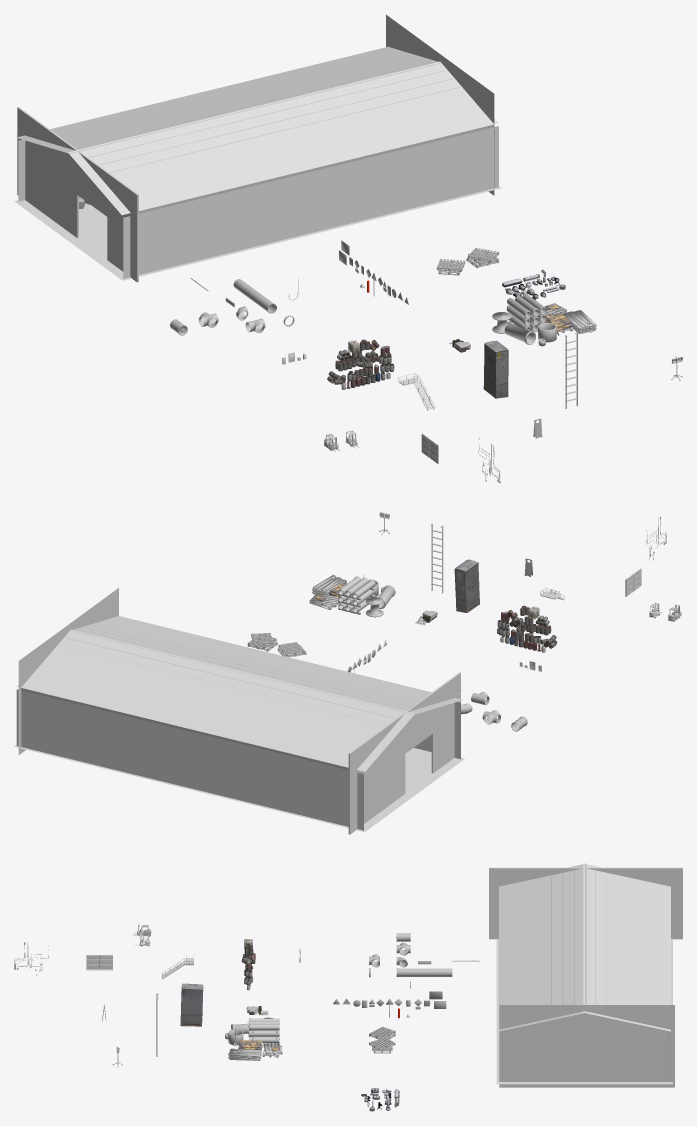
File: Escena_01.fbx
3 views of the same model, one above another, from view 1: azimuth 30°, elevation 25°; view 2: azimuth 150°, elevation 25°; view 3: azimuth 270°, elevation 25° (orthographic). The views are drawn at different scales.
Parts seen in each view (by area): view 1: Plane.001, Plane.006, Plane.002, Plane.008, Plane.007, Plane, electricbox, pipe_stack_planks, Open Metal Shed.004, Open Metal Shed.010, Open Metal Shed.014; view 2: Plane.002, Plane.003, Plane.001, Plane.008, Plane.007, Plane, electricbox, pipe_stack_planks, Open Metal Shed.010, Open Metal Shed.004, Open Metal Shed.014, Plane.006 (+1 smaller); view 3: Plane, Plane.001, Plane.002, Plane.008, Plane.007, electricbox, pipe_stack_planks, duct_base_low, Planks.
Part boxes in pixels (<box>): Plane.001: <box>68,61,498,215</box>; Plane.006: <box>123,126,498,278</box>; Plane.002: <box>16,47,441,153</box>; Plane.008: <box>17,107,138,282</box>; Plane.007: <box>14,186,501,280</box>; Plane: <box>386,14,494,195</box>; electricbox: <box>483,340,508,398</box>; pipe_stack_planks: <box>506,294,547,332</box>; Open Metal Shed.004: <box>168,104,312,193</box>; Open Metal Shed.010: <box>255,83,400,171</box>; Open Metal Shed.014: <box>344,61,488,149</box>; Plane.002: <box>16,629,414,771</box>; Plane.003: <box>16,689,363,830</box>; Plane.001: <box>70,616,462,714</box>; Plane.008: <box>348,672,460,834</box>; Plane.007: <box>14,745,464,832</box>; Plane: <box>18,588,118,754</box>; electricbox: <box>454,559,479,612</box>; pipe_stack_planks: <box>338,576,375,614</box>; Open Metal Shed.010: <box>108,645,255,731</box>; Open Metal Shed.004: <box>190,665,337,751</box>; Open Metal Shed.014: <box>26,625,170,711</box>; Plane.006: <box>414,702,460,759</box>; Plane: <box>499,1005,674,1087</box>; Plane.001: <box>499,863,586,1031</box>; Plane.002: <box>583,863,670,1031</box>; Plane.008: <box>489,867,682,939</box>; Plane.007: <box>496,939,672,1084</box>; electricbox: <box>180,983,203,1026</box>; pipe_stack_planks: <box>248,1018,279,1045</box>; duct_base_low: <box>396,968,452,976</box>; Planks: <box>228,1048,261,1060</box>.
Bounding box in the file's own units: 7349 × 2449 × 13413.
